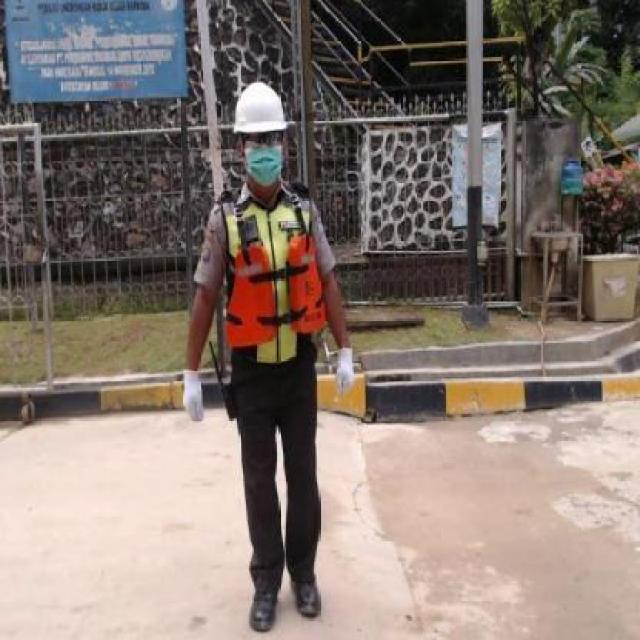Gloves: (178, 366, 210, 428), (331, 343, 358, 400)
Helmet: (231, 78, 287, 132)
Mask: (246, 148, 282, 188)
Vest: (218, 191, 328, 383), (244, 132, 282, 151)
